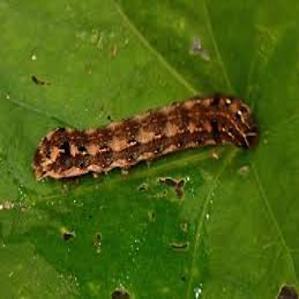Tobacco cutworm: (14, 64, 277, 215)
